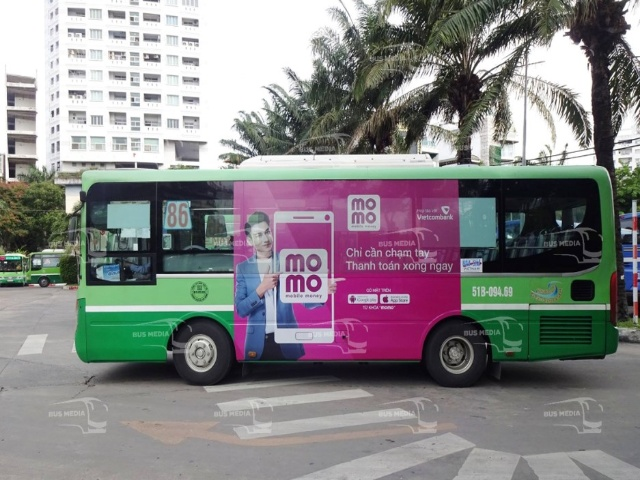Xe_buyt: (74, 155, 620, 388)
